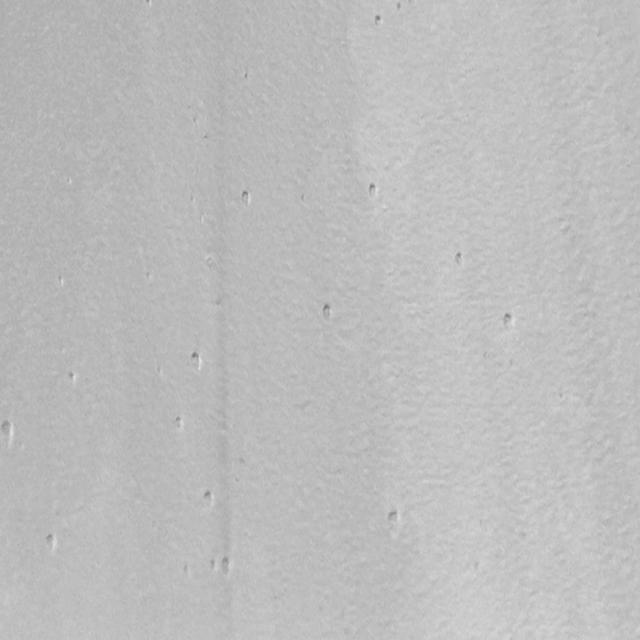pin holes: (384, 505, 404, 534), (498, 310, 520, 334), (186, 350, 207, 375), (40, 532, 60, 558), (316, 301, 337, 325), (1, 419, 18, 448), (364, 181, 384, 204), (450, 247, 469, 270), (237, 187, 256, 209), (171, 414, 190, 436), (220, 554, 236, 578), (200, 489, 218, 510), (65, 369, 79, 387), (372, 13, 386, 30), (207, 557, 220, 574)
